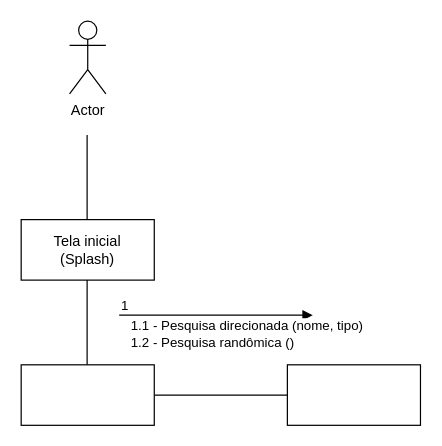
Image size: 442x446. Some labels were removed from this diagram. The shapes that lost their labels are listed below. From the top down, each one's centre as x and y in pixels, then its label:
the point at 87,394: Lista de pokemons (home)
the point at 353,394: Detalhes dos pokemons
